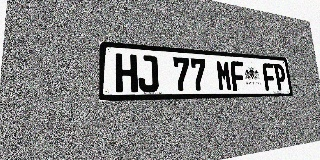7: (172, 57, 191, 92), (189, 58, 208, 92)
F: (230, 61, 246, 91), (262, 63, 276, 91)
H: (115, 53, 138, 93)
J: (138, 55, 159, 92)
M: (216, 60, 233, 91)
P: (273, 64, 287, 90)
